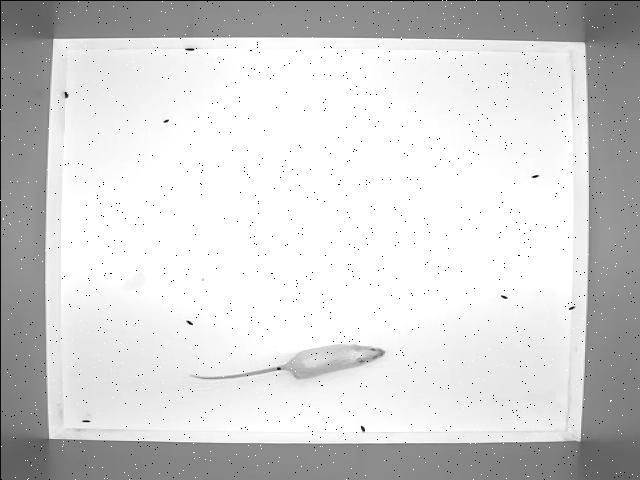Tikus: (190, 340, 386, 386)
